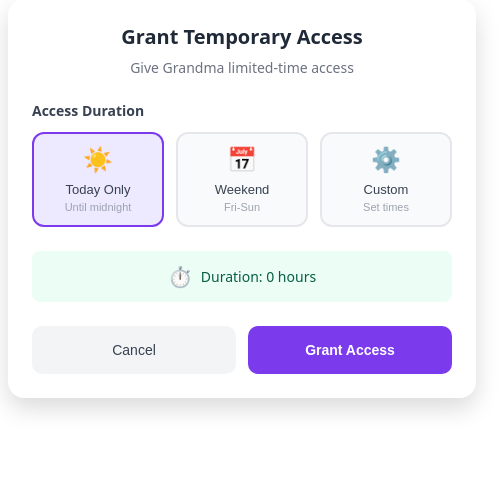
Test case: TemporaryAccessGrantForm › Form Submission › shows error message on failed submission
This screenshot has width=500, height=487.
Click the button with test id "submit-button" at {"x": 350, "y": 350}, box [248, 326, 452, 374]
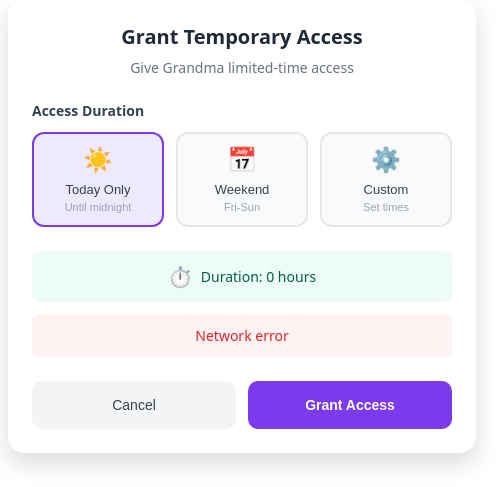
Now the text "Network error" is shown, box [32, 314, 452, 357]
